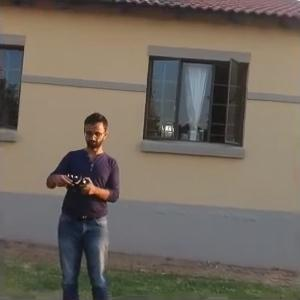follow: (39, 105, 127, 298)
